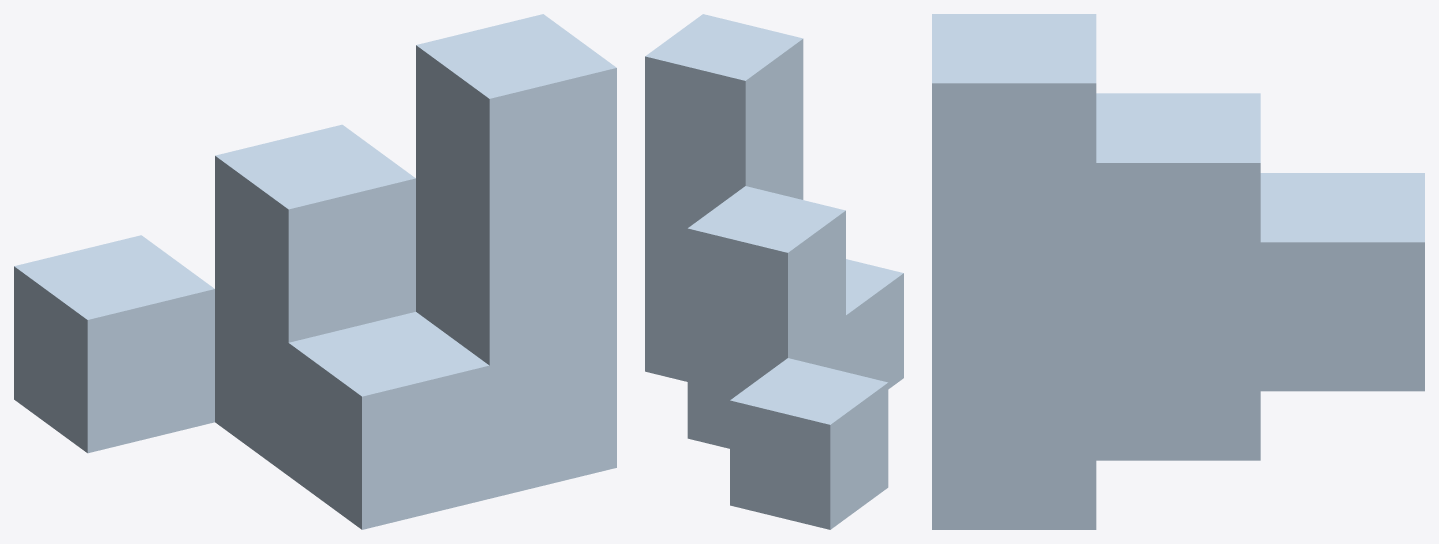
The model's file is tile-36.obj.
3 renders of one model, left to right at view 1: azimuth 30°, elevation 25°; view 2: azimuth 150°, elevation 25°; view 3: azimuth 270°, elevation 25°, orthographic. The views are drawn at different scales.
Bounding box in the file's own units: 0.3 × 0.3 × 0.3.
